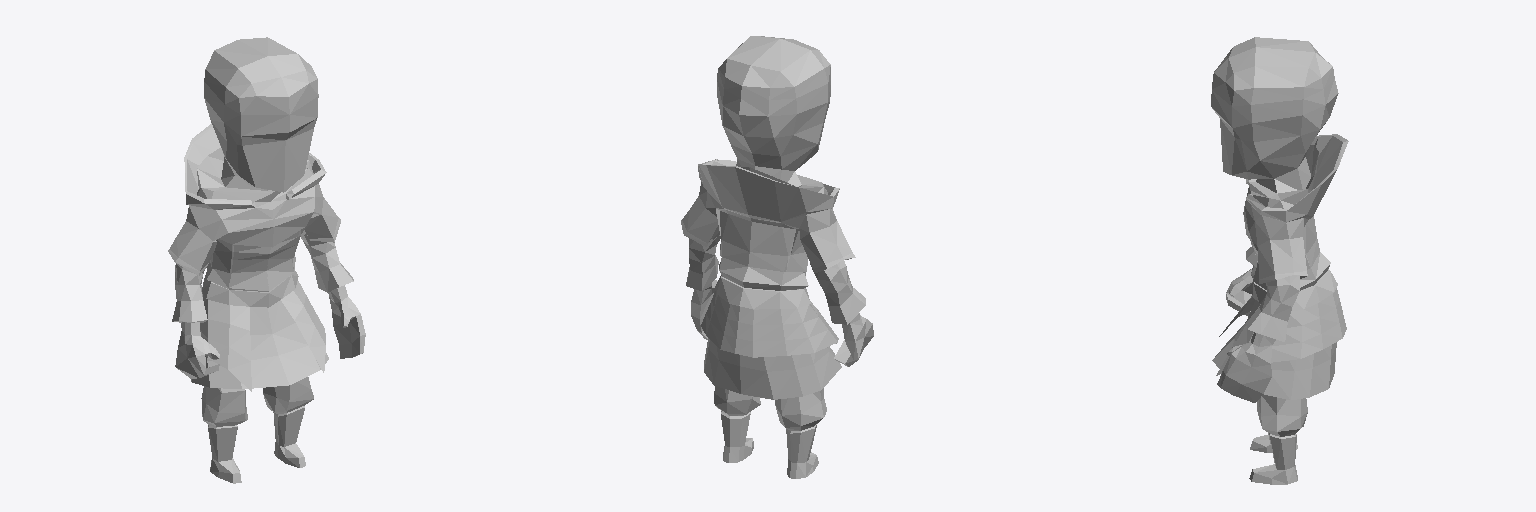
File: Wizard.001__ncl1_29.obj
3 views of the same model, side by side, from view 1: azimuth 30°, elevation 25°; view 2: azimuth 150°, elevation 25°; view 3: azimuth 270°, elevation 25° (orthographic).
Visible parts, largest first — view 1: Wizard.001__ncl1_29.006; view 2: Wizard.001__ncl1_29.006; view 3: Wizard.001__ncl1_29.006.
Part boxes in pixels (x1,y1,x2,y2): Wizard.001__ncl1_29.006: (168, 37, 365, 483); Wizard.001__ncl1_29.006: (681, 36, 873, 478); Wizard.001__ncl1_29.006: (1211, 37, 1348, 484).
Bounding box in the file's own units: 1.3 × 2.96 × 0.8854.